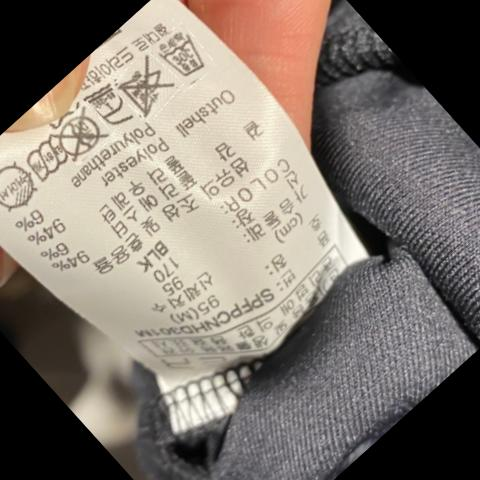DN_bleach: (123, 66, 181, 112)
DN_dry_clean: (61, 108, 101, 162)
dry_flat_in_shade: (1, 162, 36, 211)
hand_wash: (160, 28, 201, 76)
iron_low: (92, 83, 133, 125)
wring: (29, 135, 73, 182)
